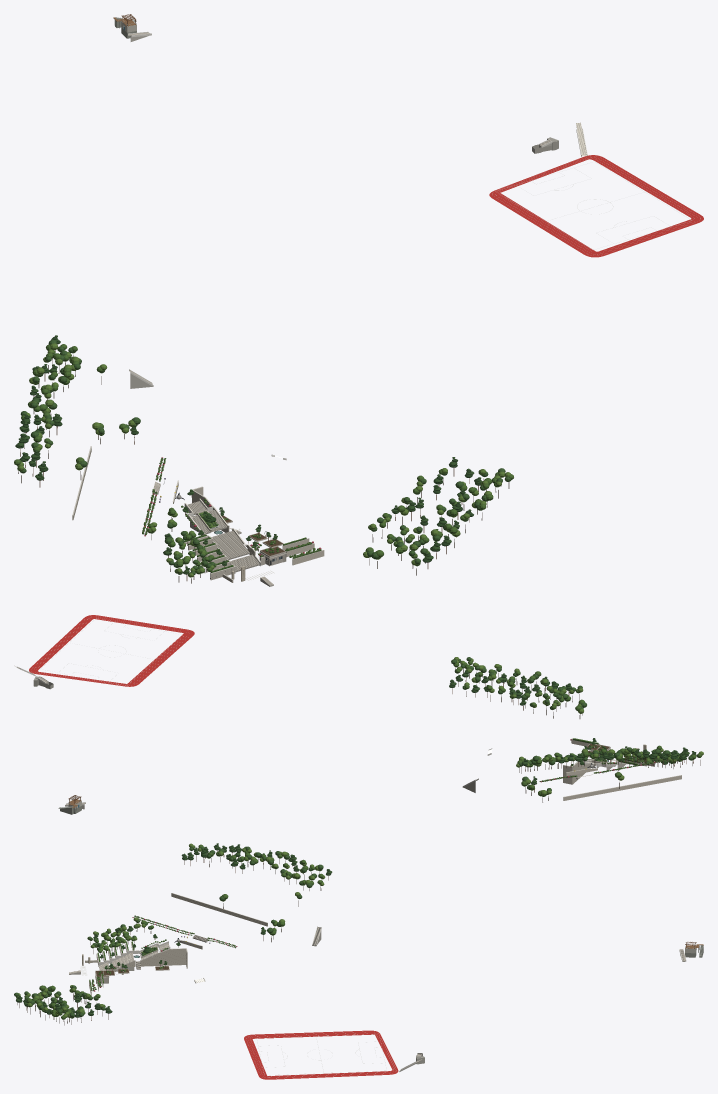
3 renders of one model, top to bottom at view 1: azimuth 30°, elevation 25°; view 2: azimuth 150°, elevation 25°; view 3: azimuth 270°, elevation 25°, orthographic. The views are drawn at different scales.
Parts seen in each view (by area): view 1: khu-track, g108-forest__broadLeaf, g108-forest__broadLeaf2, g108-forest__broadLeaf3, g108-pines__pineNeedle, g108-plaza-roadwall__stone, khu-graniteLight, g108-pines__pineNeedle2, g108-a1__g108Riser; view 2: khu-track, g108-forest__broadLeaf, g108-forest__broadLeaf3, g108-forest__broadLeaf2, g108-plaza-roadwall__stone, g108-pines__pineNeedle, g108-pines__pineNeedle2, g108-forest__trunkGrey; view 3: khu-track, g108-plaza-roadwall__stone, g108-forest__broadLeaf3, g108-forest__broadLeaf, g108-forest__broadLeaf2, g108-pines__pineNeedle, g108-pines__pineNeedle2, khu-graniteLight, g108-plaza-roadwall__cope.
Part boxes in pixels (x1,y1,x2,y2): khu-track: (489,155,703,257); g108-forest__broadLeaf: (14,344,513,577); g108-forest__broadLeaf2: (17,343,510,577); g108-forest__broadLeaf3: (19,339,511,574); g108-pines__pineNeedle: (15,337,482,574); g108-plaza-roadwall__stone: (72,447,324,582); khu-graniteLight: (128,32,586,585); g108-pines__pineNeedle2: (17,335,481,572); g108-a1__g108Riser: (157,483,259,572); khu-track: (29,615,194,686); g108-forest__broadLeaf: (453,661,702,796); g108-forest__broadLeaf3: (451,657,700,796); g108-forest__broadLeaf2: (454,657,703,795); g108-plaza-roadwall__stone: (563,739,681,800); g108-pines__pineNeedle: (449,671,696,784); g108-pines__pineNeedle2: (450,670,696,782); g108-forest__trunkGrey: (455,667,700,802); khu-track: (244,1030,398,1079); g108-plaza-roadwall__stone: (85,893,267,995); g108-forest__broadLeaf3: (14,846,323,1017); g108-forest__broadLeaf: (16,844,323,1019); g108-forest__broadLeaf2: (18,843,325,1017); g108-pines__pineNeedle: (16,844,331,1017); g108-pines__pineNeedle2: (16,843,332,1015); khu-graniteLight: (69,927,685,1070); g108-plaza-roadwall__cope: (85,893,267,991).
Bounding box in the file's own units: 453 × 108 × 509.
Materials: 68 (1 with a texture image).
